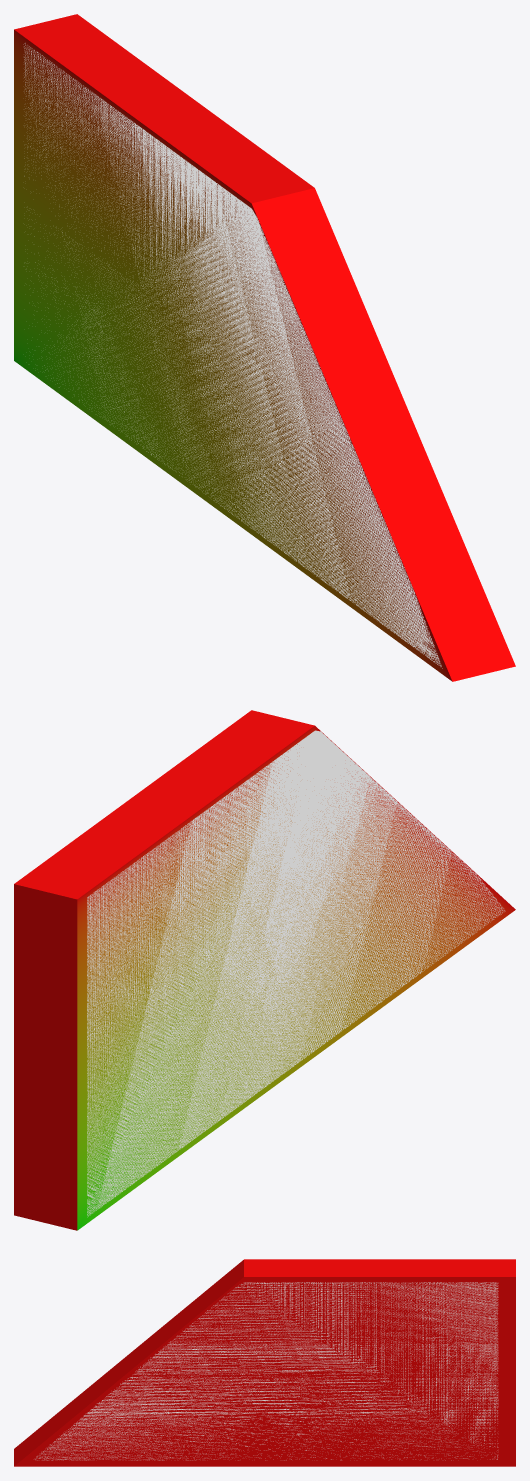
The picture shows the model from 3 angles, top to bottom: view 1: azimuth 30°, elevation 25°; view 2: azimuth 150°, elevation 25°; view 3: azimuth 270°, elevation 25°; orthographic projection. The views are drawn at different scales.
Visible parts, largest first — view 1: SM_Platform_Ceiling_Wall_02_LOD0, SM_Platform_Ceiling_Wall_02_ConvexHulls; view 2: SM_Platform_Ceiling_Wall_02_LOD0, SM_Platform_Ceiling_Wall_02_ConvexHulls; view 3: SM_Platform_Ceiling_Wall_02_LOD0, SM_Platform_Ceiling_Wall_02_ConvexHulls.
Part boxes in pixels (box(x1,y1,x2,y2)): SM_Platform_Ceiling_Wall_02_LOD0: box(14, 14, 515, 681); SM_Platform_Ceiling_Wall_02_ConvexHulls: box(23, 43, 442, 668); SM_Platform_Ceiling_Wall_02_LOD0: box(14, 710, 515, 1230); SM_Platform_Ceiling_Wall_02_ConvexHulls: box(87, 730, 505, 1217); SM_Platform_Ceiling_Wall_02_LOD0: box(14, 1259, 515, 1466); SM_Platform_Ceiling_Wall_02_ConvexHulls: box(35, 1282, 498, 1460).
Bounding box in the file's own units: 50 × 600 × 250.
